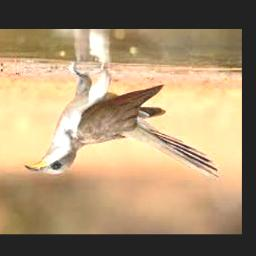Cuckoo: (24, 68, 219, 182)
